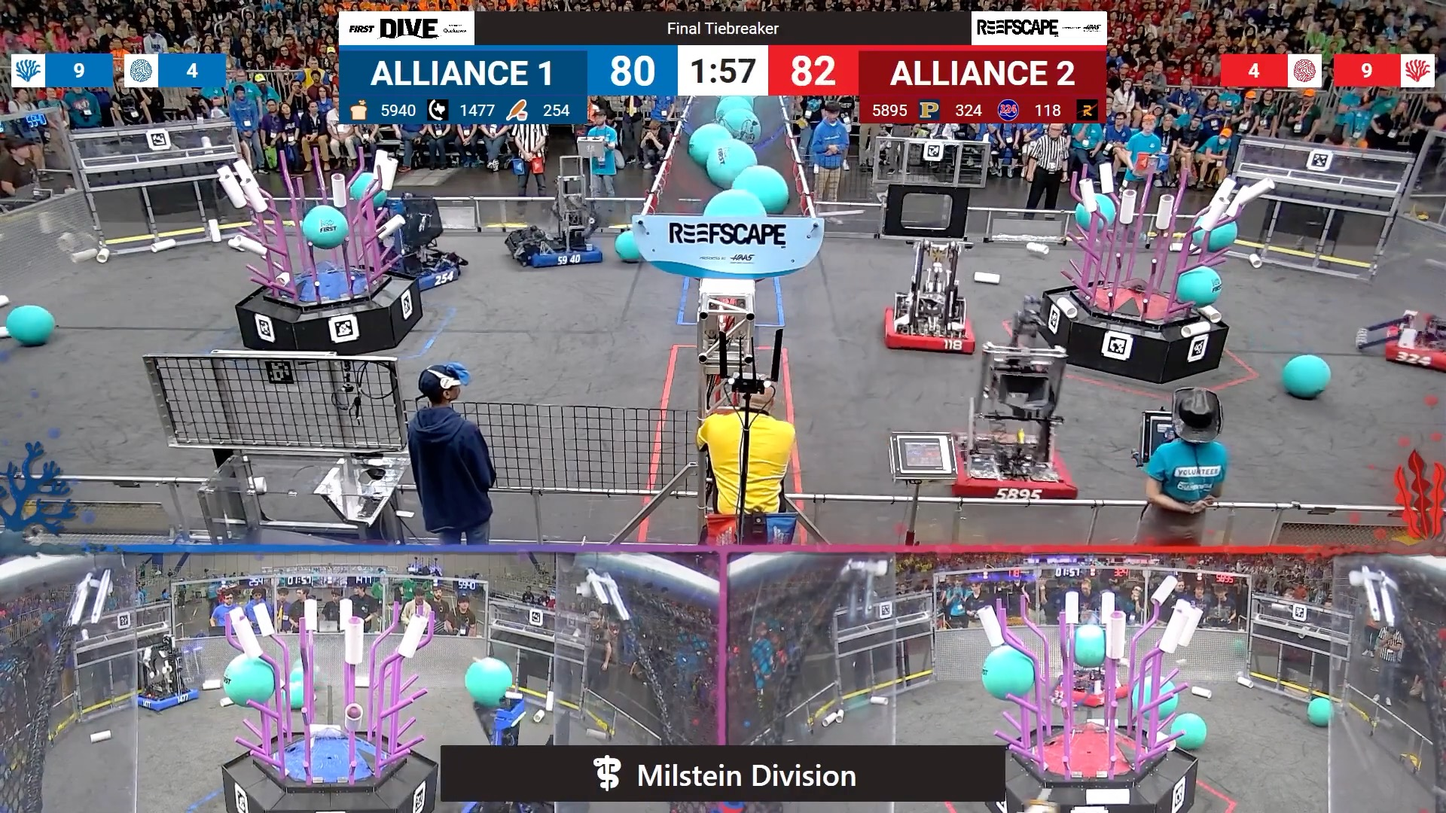bumpers: (952, 432, 1080, 510), (874, 305, 984, 363), (1380, 312, 1446, 378), (509, 231, 609, 270), (382, 252, 469, 293), (129, 684, 206, 717)
